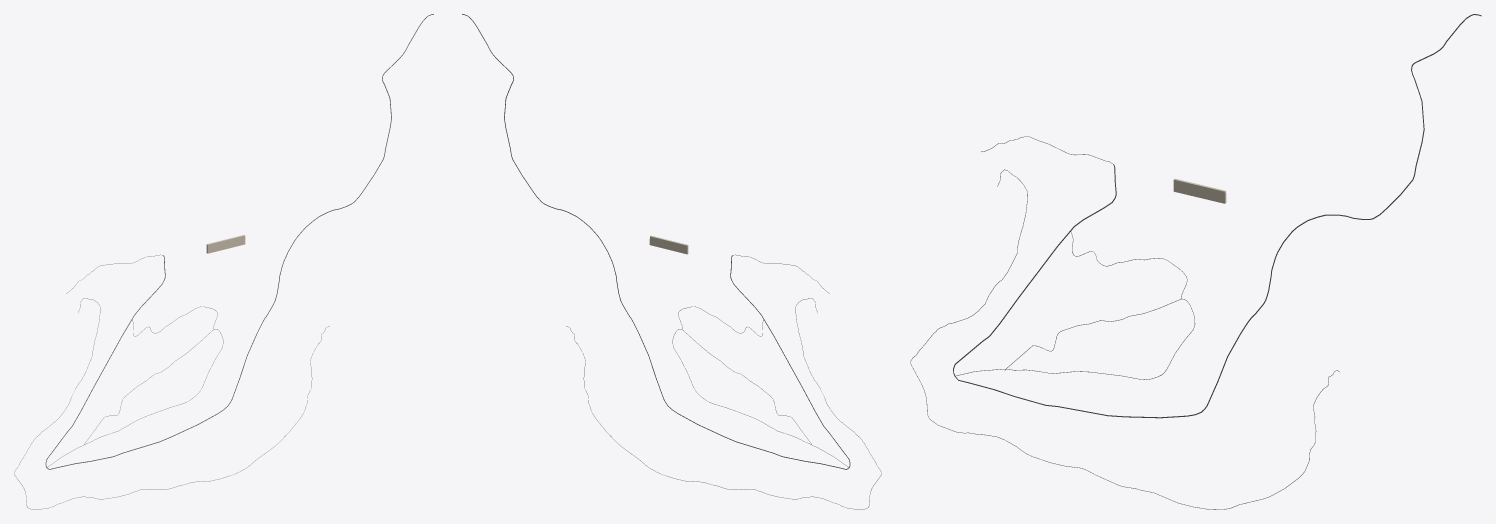
File: historic-palestine-11_32_3533_3269.glb
3 renders of one model, left to right at view 1: azimuth 30°, elevation 25°; view 2: azimuth 150°, elevation 25°; view 3: azimuth 330°, elevation 25°, orthographic. The views are drawn at different scales.
Parts seen in each view (by area): view 1: Road .005, Road .004; view 2: Road .005, Road .004; view 3: Road .005, Road .004, Building_.
Part boxes in pixels (x1,y1,x2,y2): Road .005: [45, 14, 433, 469]; Road .004: [14, 298, 329, 509]; Road .005: [462, 14, 850, 469]; Road .004: [566, 298, 881, 509]; Road .005: [953, 14, 1481, 418]; Road .004: [910, 169, 1339, 509]; Building_: [1173, 178, 1226, 203].
Bounding box in the file's own units: 1859 × 1749 × 8.7.
